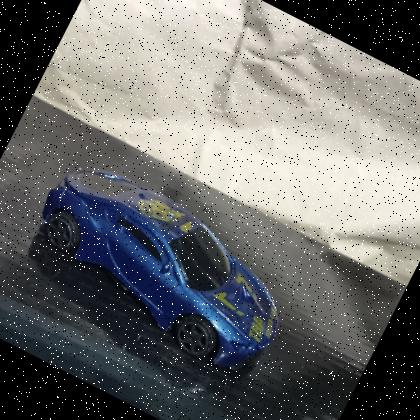Car: (40, 169, 278, 378)
